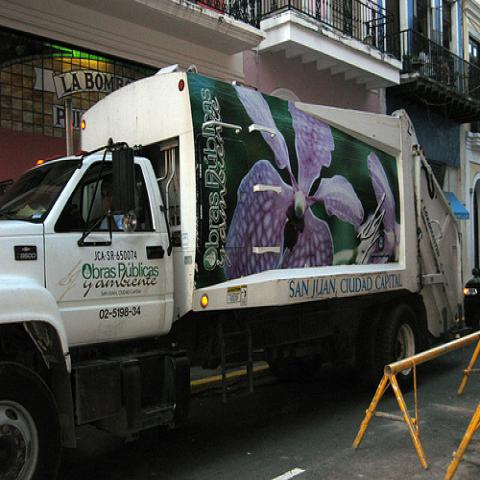car: (463, 268, 479, 331)
truck: (0, 66, 468, 473)
